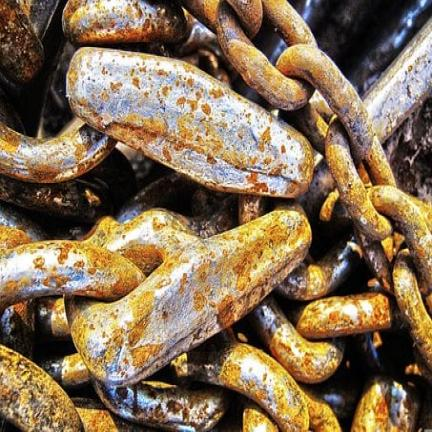karat: (327, 120, 431, 372), (182, 0, 320, 113), (212, 199, 313, 327), (20, 216, 167, 299), (0, 340, 86, 431), (0, 120, 115, 185)
